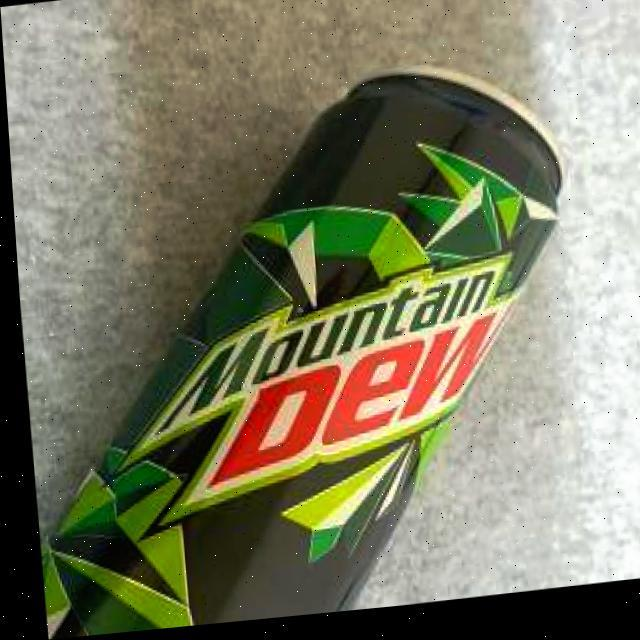Lata: (42, 65, 568, 636)
